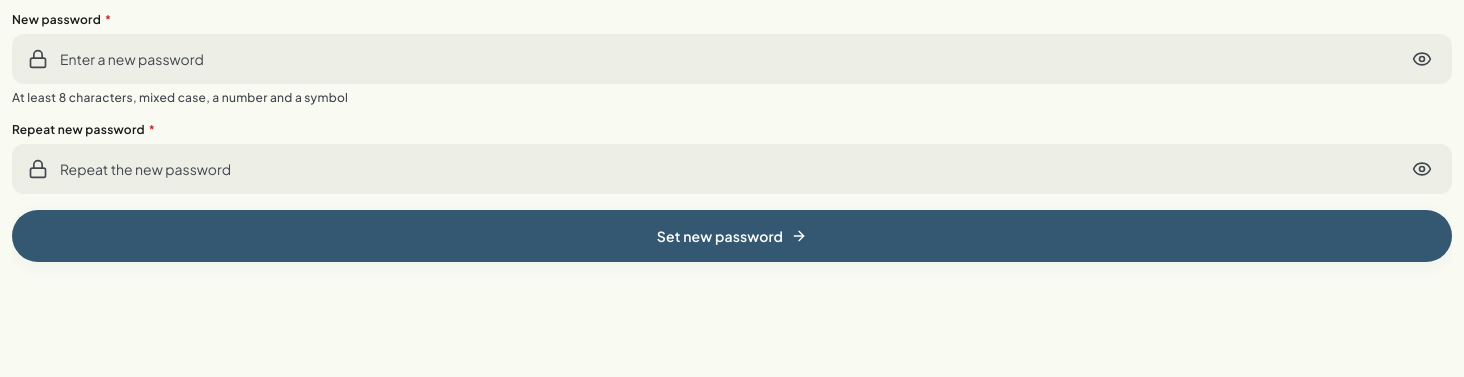
Scenario: ResetPasswordForm token › shows the action's error as a banner
Type "Chores12!" into the password field labelled "New password" at (732, 59), box [12,34,1452,84]
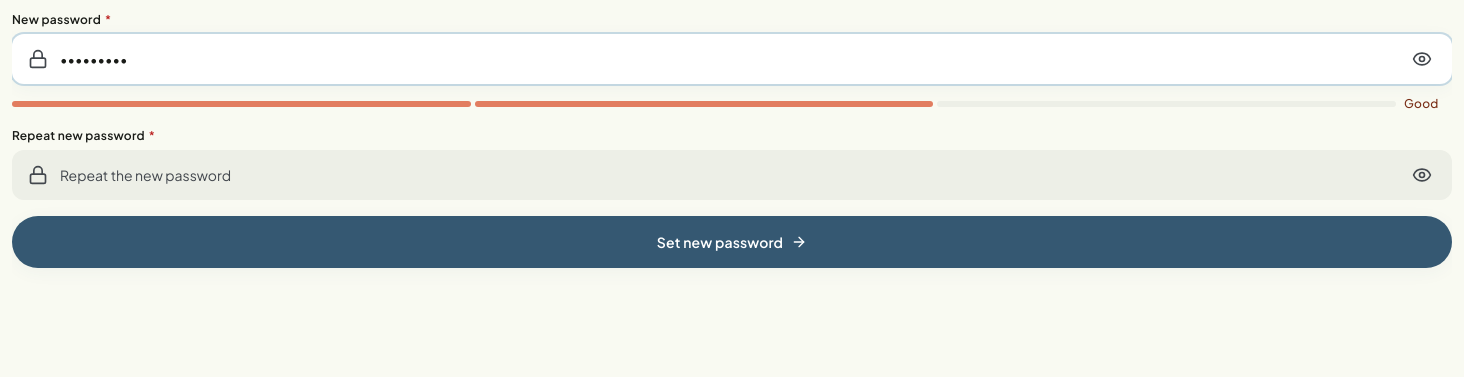
Type "Chores12!" into the password field labelled "Repeat new password" at (732, 175), box [12,150,1452,200]
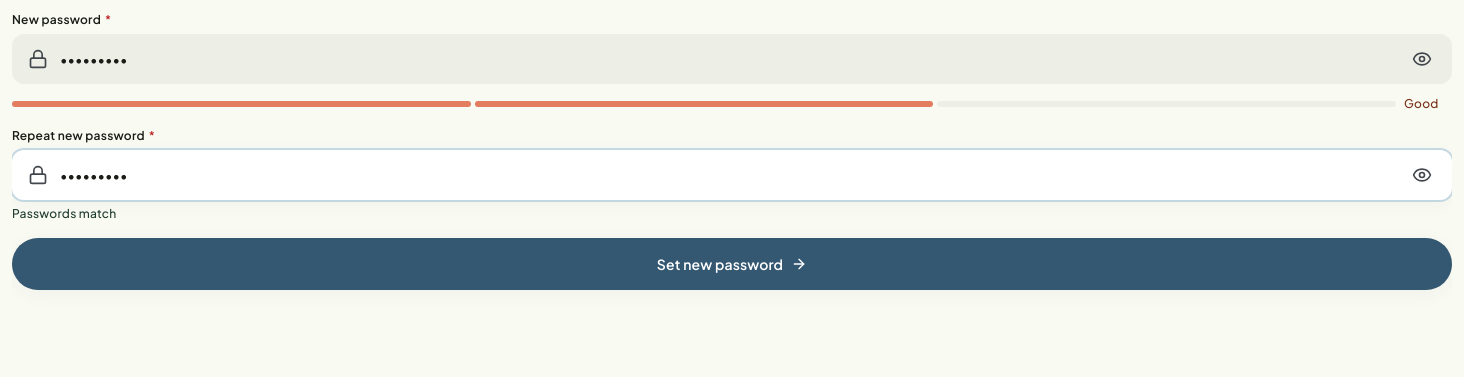
Click the button "Set new password" at (732, 264), box [12,238,1452,290]
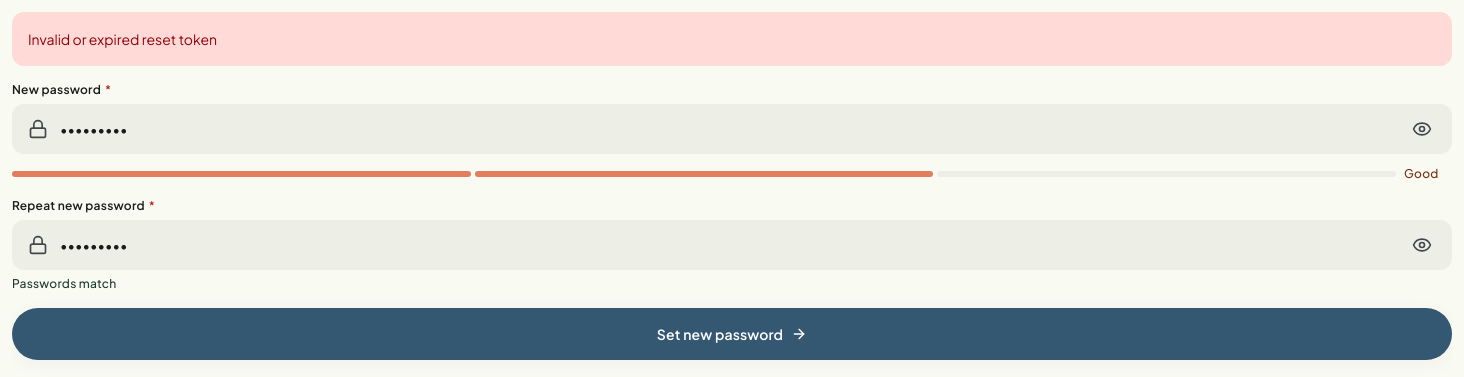
Check: the message reads "Invalid or expired reset token", box [28,30,217,48]
